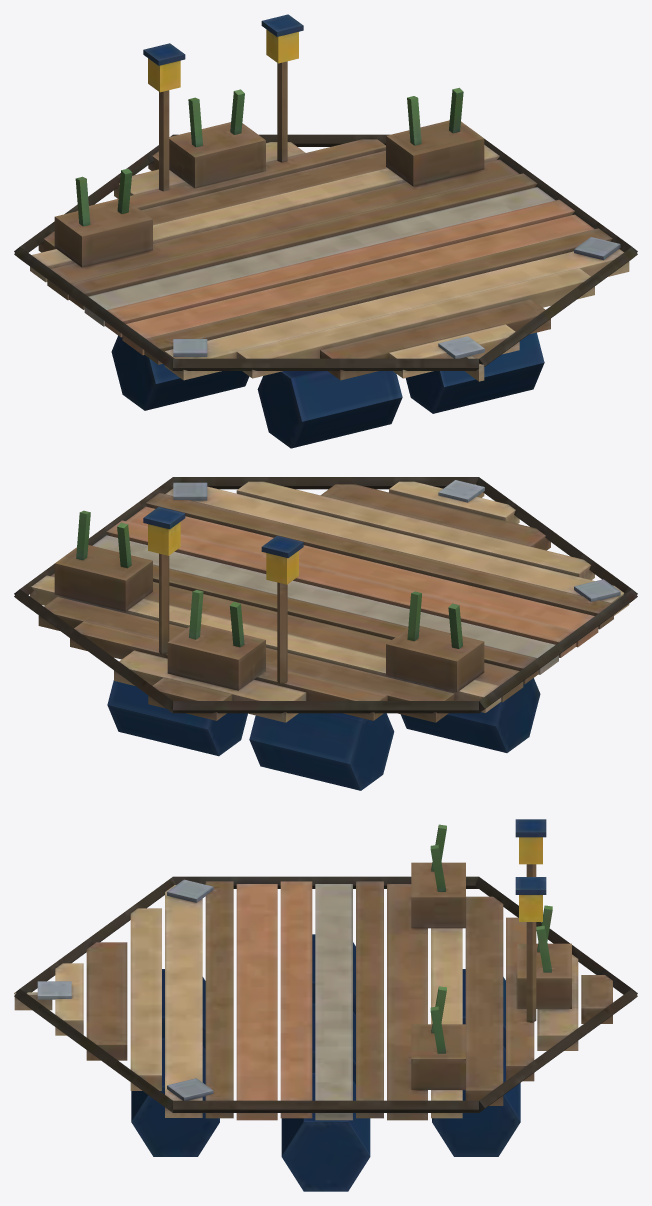
The model's file is raft-c-age10-lite.glb.
3 views of the same model, one above another, from view 1: azimuth 30°, elevation 25°; view 2: azimuth 150°, elevation 25°; view 3: azimuth 270°, elevation 25° (orthographic).
Visible parts, largest first — view 1: raft-c-age10-lite; view 2: raft-c-age10-lite; view 3: raft-c-age10-lite.
Part boxes in pixels (bbox=[...]): raft-c-age10-lite: bbox=[14, 14, 637, 448]; raft-c-age10-lite: bbox=[14, 477, 637, 790]; raft-c-age10-lite: bbox=[14, 819, 637, 1191].
Bounding box in the file's own units: 1.59 × 0.7856 × 1.83.
Materials: 1 (1 with a texture image).
